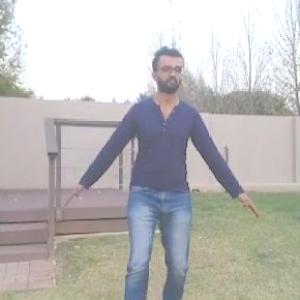land: (57, 40, 262, 299)
